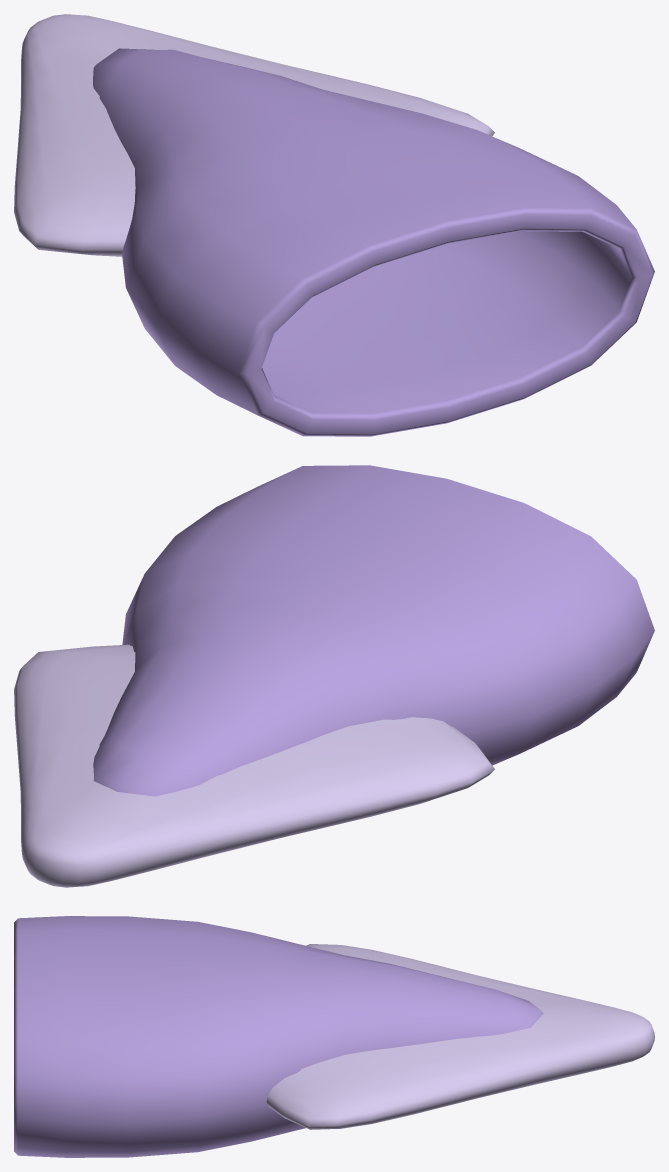
File: Squid_3_Fillet_2.fbx
3 renders of one model, top to bottom at view 1: azimuth 30°, elevation 25°; view 2: azimuth 150°, elevation 25°; view 3: azimuth 270°, elevation 25°, orthographic. The views are drawn at different scales.
Parts seen in each view (by area): view 1: Squid_3_Fillet_2; view 2: Squid_3_Fillet_2; view 3: Squid_3_Fillet_2.
Part boxes in pixels (x1,y1,x2,y2): Squid_3_Fillet_2: (14,14,654,436); Squid_3_Fillet_2: (14,465,654,887); Squid_3_Fillet_2: (14,916,654,1157).
Bounding box in the file's own units: 12.74 × 5.34 × 19.26.
